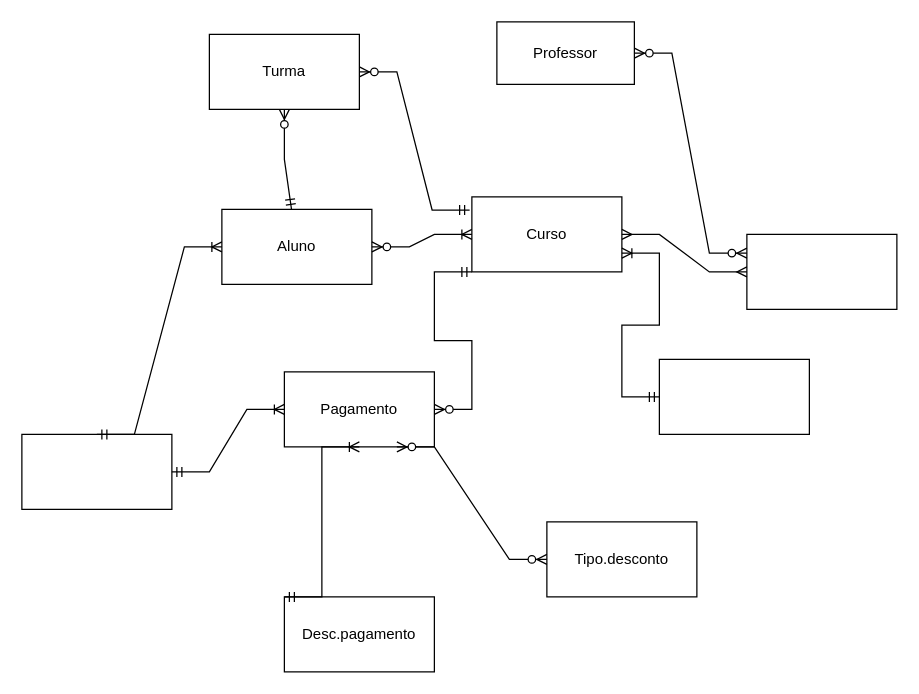
This 919x694 diagram has some shape labels left out. Here are the shapes that lost their labels. From the top down, the centre of each, then its label:
At point (821, 271): "Disciplina".
At point (733, 396): "Coordenador".
At point (96, 471): "Rep.financeiro".
